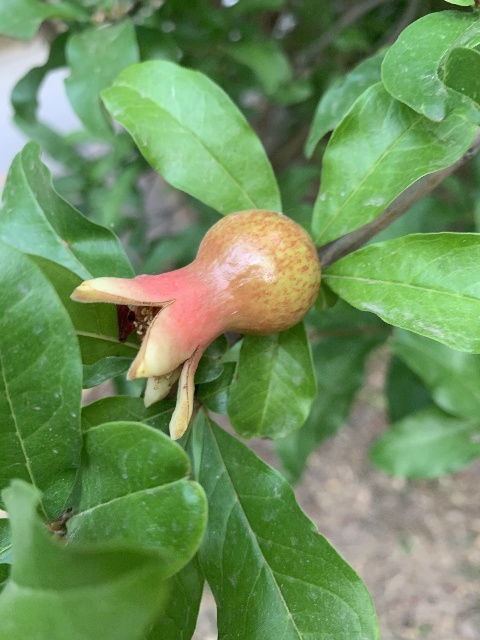early-fruit: (70, 207, 320, 440)
